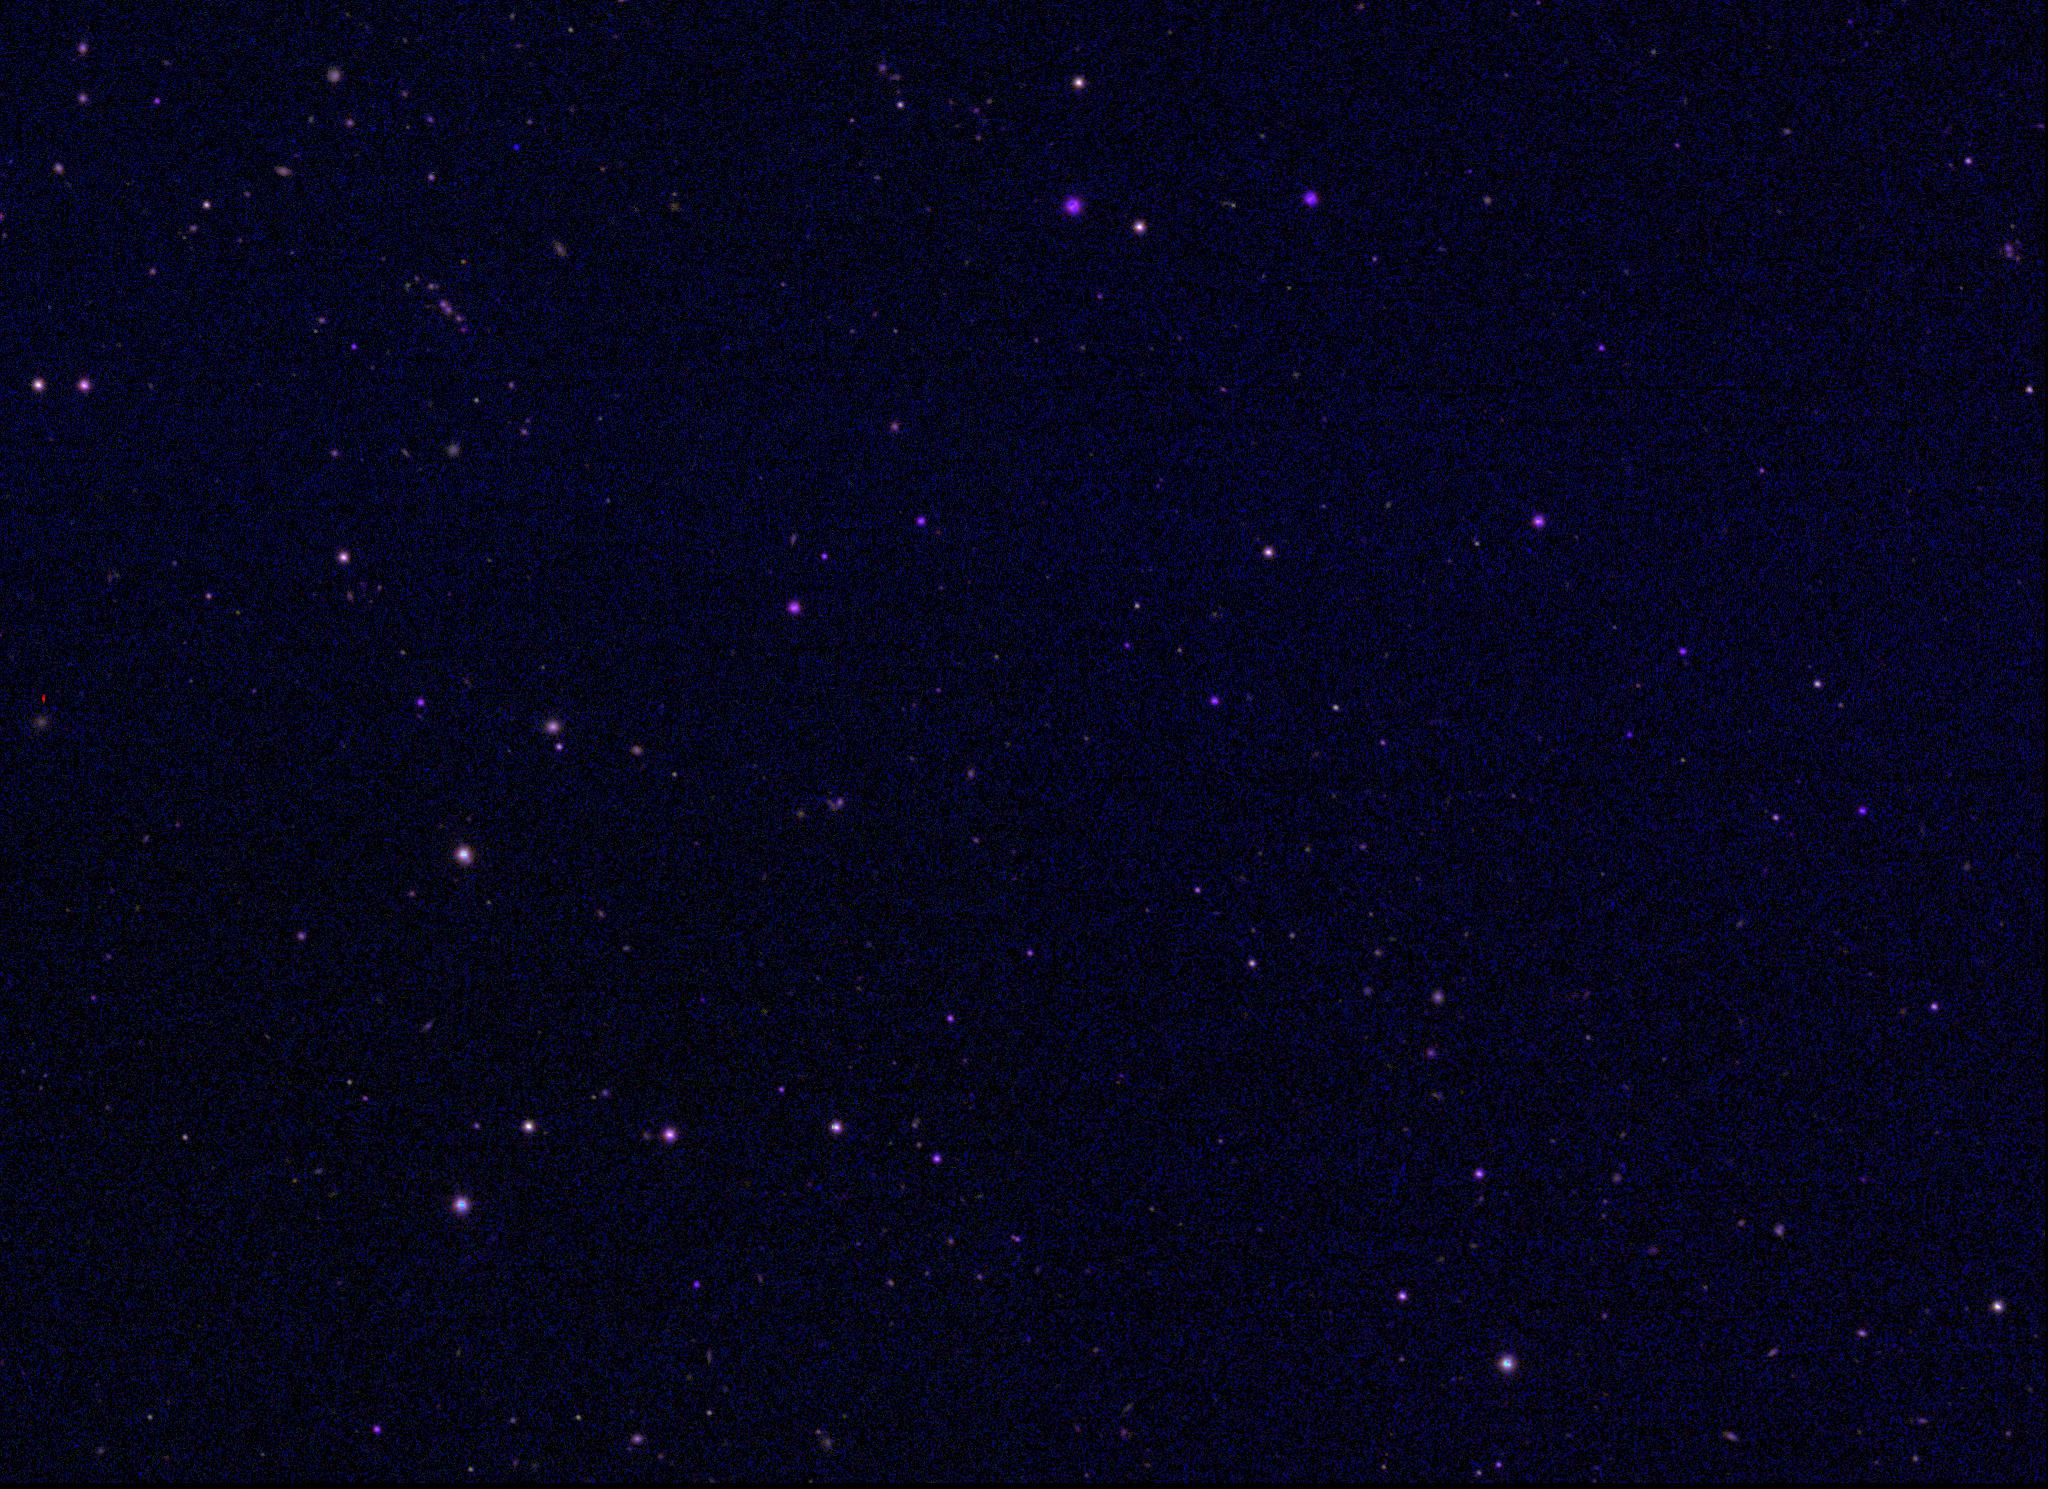L: (509, 135, 523, 150)
